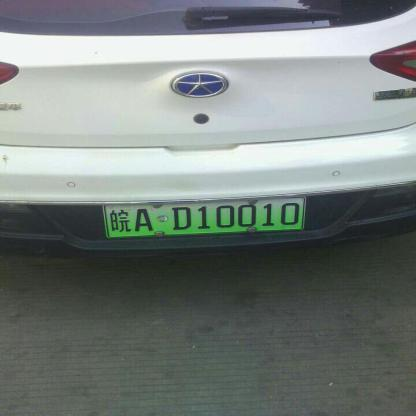lp: (103, 197, 304, 236)
